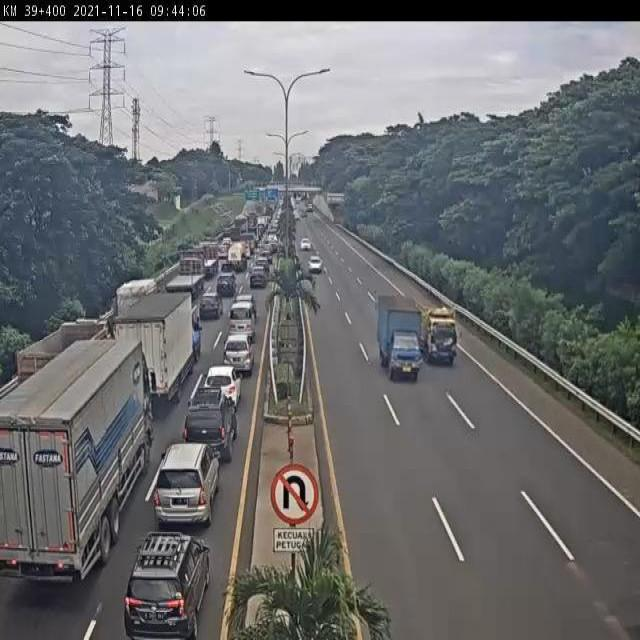car: (117, 521, 215, 639), (155, 431, 214, 525), (182, 377, 234, 452), (203, 348, 236, 404), (218, 331, 254, 368), (228, 300, 254, 337), (200, 286, 222, 322), (215, 268, 240, 299), (306, 248, 328, 283), (249, 261, 270, 291), (298, 232, 315, 256)
small truck: (420, 292, 459, 373)
truck-l-: (0, 345, 155, 584), (167, 257, 208, 304), (196, 237, 222, 279)
truck-m-: (14, 316, 121, 431), (375, 293, 427, 387), (116, 279, 167, 337)
